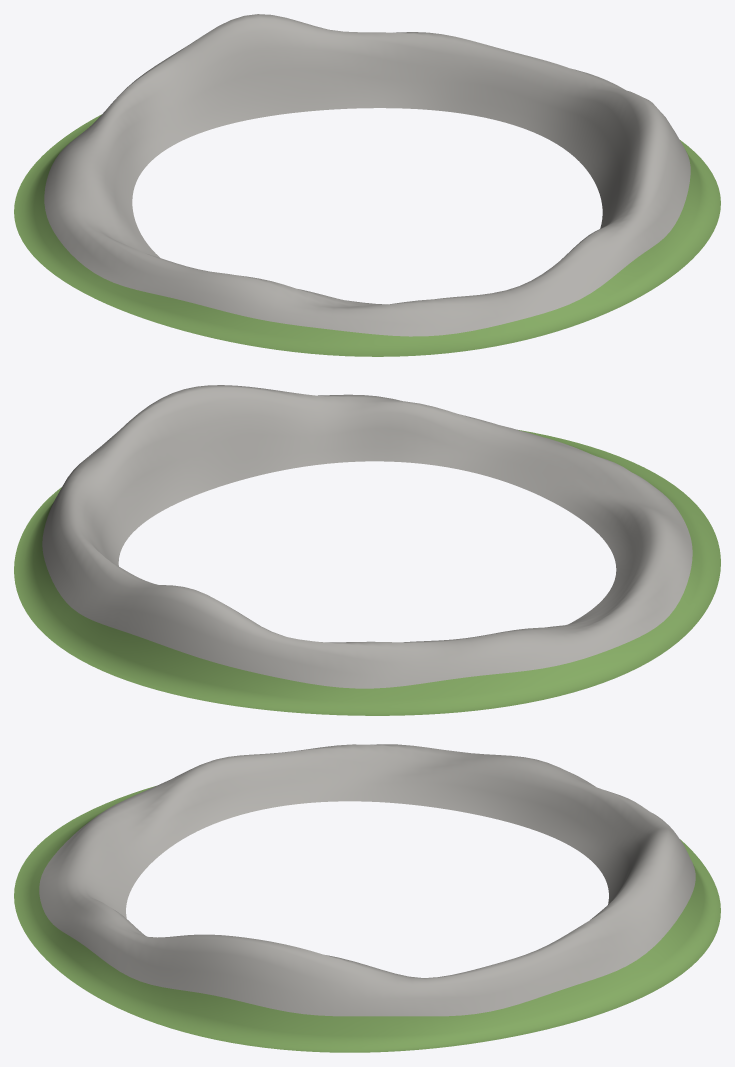
Rendered from anel_montanhas_novo.glb.
The picture shows the model from 3 angles, top to bottom: view 1: azimuth 30°, elevation 25°; view 2: azimuth 150°, elevation 25°; view 3: azimuth 270°, elevation 25°; orthographic projection. The views are drawn at different scales.
Parts seen in each view (by area): view 1: Anel_Montanhas_Novo; view 2: Anel_Montanhas_Novo; view 3: Anel_Montanhas_Novo.
Part boxes in pixels (x1,y1,x2,y2): Anel_Montanhas_Novo: (14, 14, 720, 356); Anel_Montanhas_Novo: (14, 385, 720, 715); Anel_Montanhas_Novo: (14, 744, 720, 1052).
Bounding box in the file's own units: 602 × 72.71 × 602.
